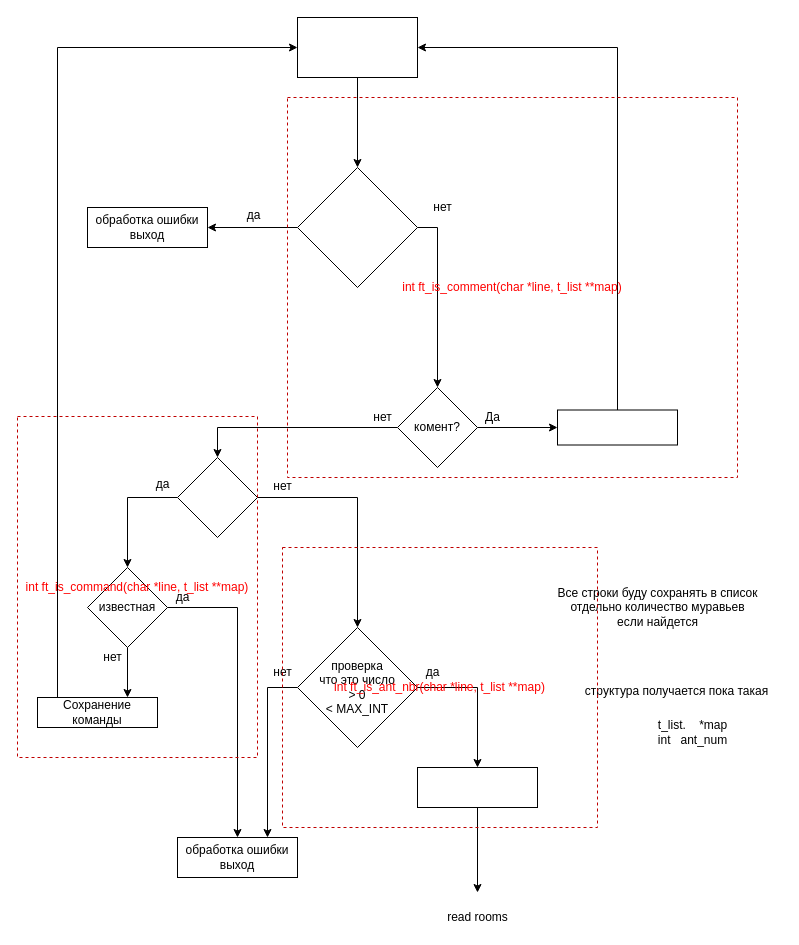
Some shapes in this 799 by 945 pixel diagram are drawn without their labels. The shapes that lost their labels are listed below. From the top down, each one's centre as x and y in pixels, then its label:
At pixel 357 47: "чтение строки".
At pixel 357 227: "прочитали последнюю строку или ошибка чтения".
At pixel 617 427: "Сохранение комента".
At pixel 217 497: "команда".
At pixel 477 787: "сохранение количества муравьев".
